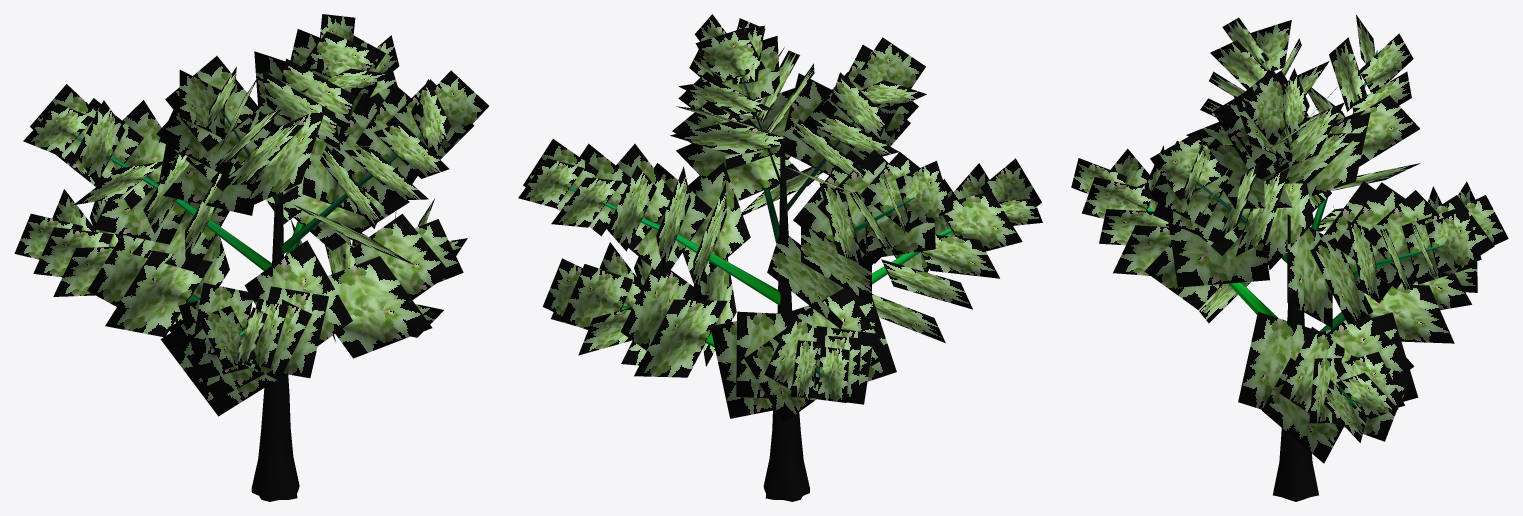
File: TestTreeSmall.fbx
3 renders of one model, left to right at view 1: azimuth 30°, elevation 25°; view 2: azimuth 150°, elevation 25°; view 3: azimuth 270°, elevation 25°, orthographic. The views are drawn at different scales.
Parts seen in each view (by area): view 1: Tree_1, Tree_0; view 2: Tree_1, Tree_0; view 3: Tree_1, Tree_0.
Boxes of the visible parts, box(x1,y1,x2,y2) form: Tree_1: box(14, 14, 488, 416); Tree_0: box(76, 77, 447, 501); Tree_1: box(518, 14, 1042, 422); Tree_0: box(569, 76, 952, 501); Tree_1: box(1071, 14, 1508, 463); Tree_0: box(1147, 50, 1444, 501).
Bounding box in the file's own units: 249 × 263 × 235.
